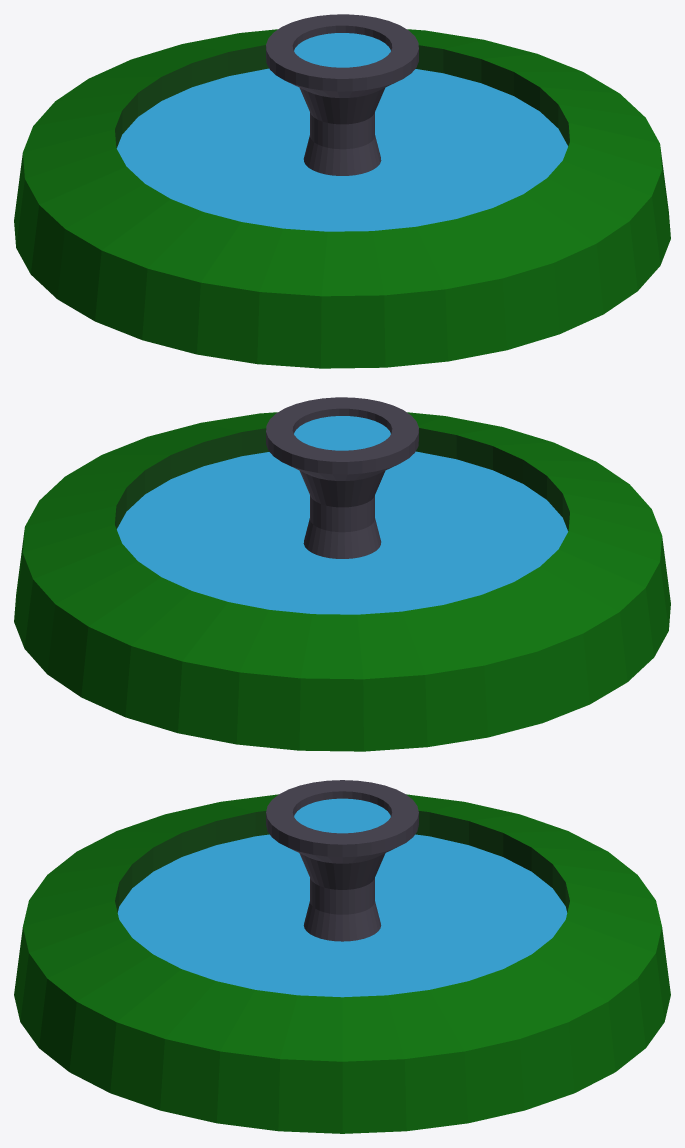
The model's file is Air_Pancur.fbx.
3 views of the same model, one above another, from view 1: azimuth 30°, elevation 25°; view 2: azimuth 150°, elevation 25°; view 3: azimuth 270°, elevation 25° (orthographic).
Visible parts, largest first — view 1: Circle, Circle.002, Circle.001, Circle.003; view 2: Circle, Circle.002, Circle.001, Circle.003; view 3: Circle, Circle.002, Circle.001, Circle.003.
Boxes of the visible parts, <box> form: Circle: <box>14,29,670,368</box>; Circle.002: <box>116,68,567,231</box>; Circle.001: <box>266,14,418,175</box>; Circle.003: <box>294,33,390,67</box>; Circle: <box>14,412,670,751</box>; Circle.002: <box>117,451,568,614</box>; Circle.001: <box>266,397,418,558</box>; Circle.003: <box>294,416,390,450</box>; Circle: <box>14,794,670,1133</box>; Circle.002: <box>117,834,567,997</box>; Circle.001: <box>266,780,418,941</box>; Circle.003: <box>294,798,390,833</box>.
Bounding box in the file's own units: 1462 × 449 × 1462.
